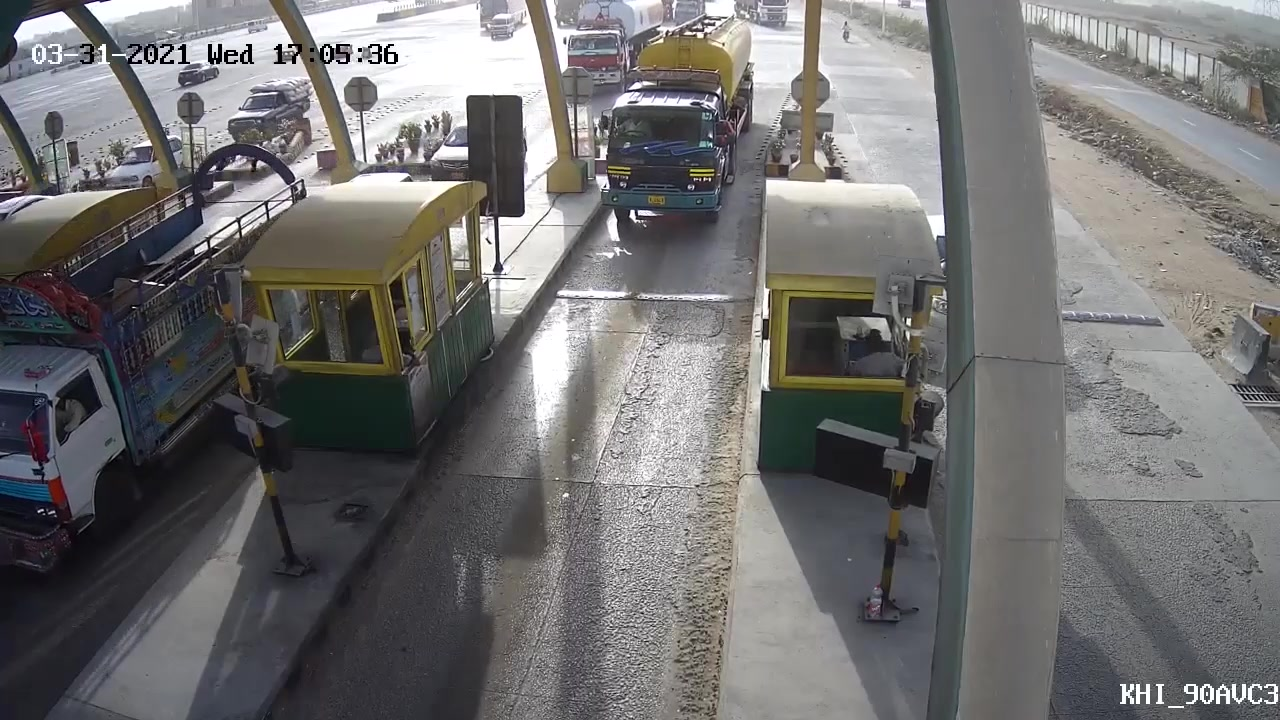F5: (598, 31, 759, 224)
